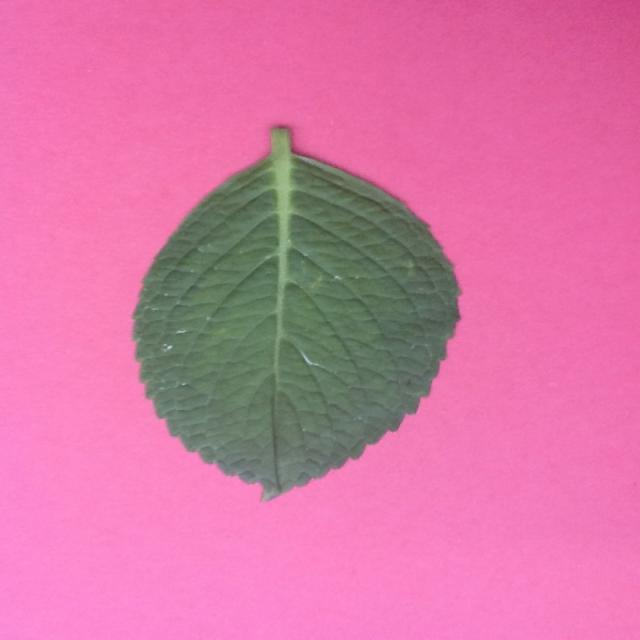foliage: (131, 120, 460, 502)
